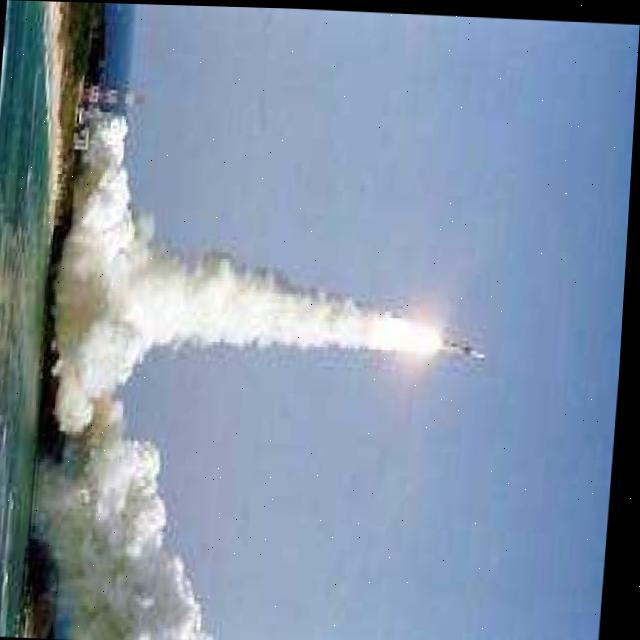missile: (435, 333, 488, 361)
